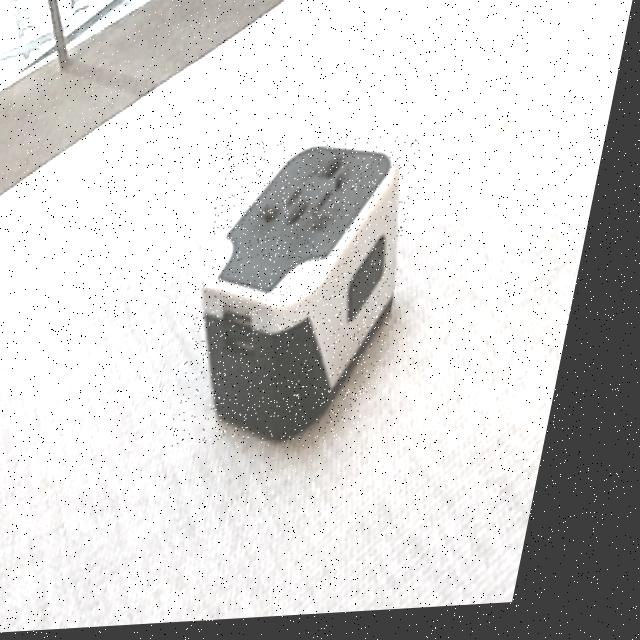adapter: (185, 138, 433, 450)
